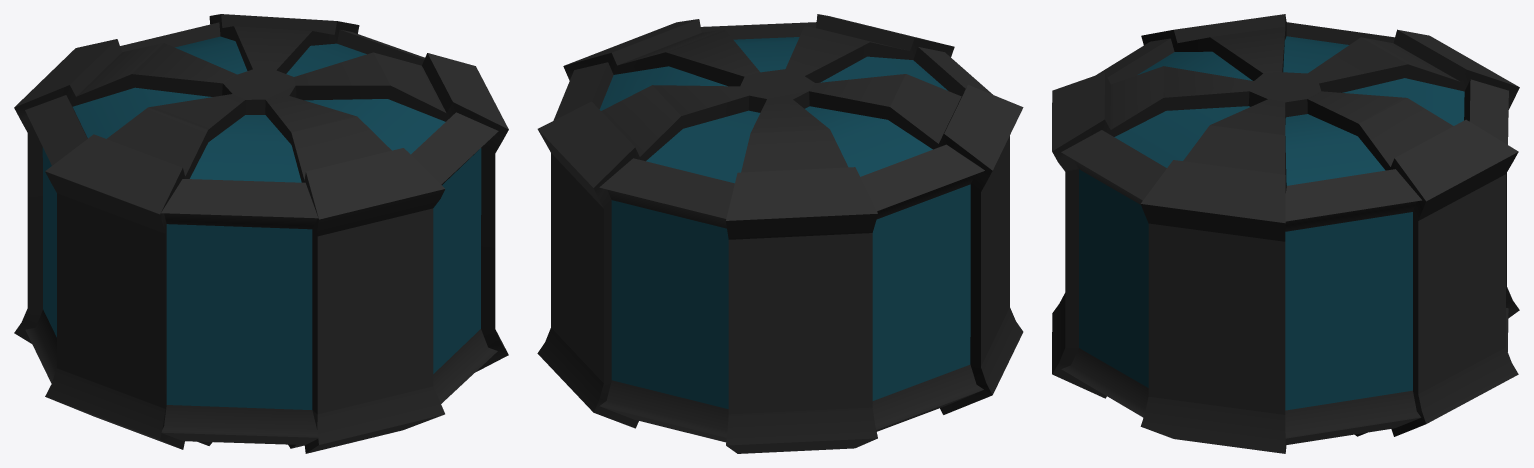
Rendered from EndRunestone.fbx.
The picture shows the model from 3 angles, left to right: view 1: azimuth 30°, elevation 25°; view 2: azimuth 150°, elevation 25°; view 3: azimuth 270°, elevation 25°; orthographic projection.
Visible parts, largest first — view 1: pSphere1; view 2: pSphere1; view 3: pSphere1.
Boxes of the visible parts, left/top/right/bottom form: pSphere1: left=14, top=14, right=508, bottom=453; pSphere1: left=537, top=14, right=1023, bottom=453; pSphere1: left=1052, top=14, right=1519, bottom=453.
Size of the model in its own units: 3.38 by 2.38 by 3.22.
